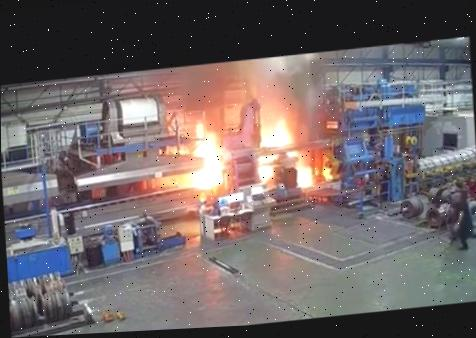fire: (48, 34, 371, 216)
